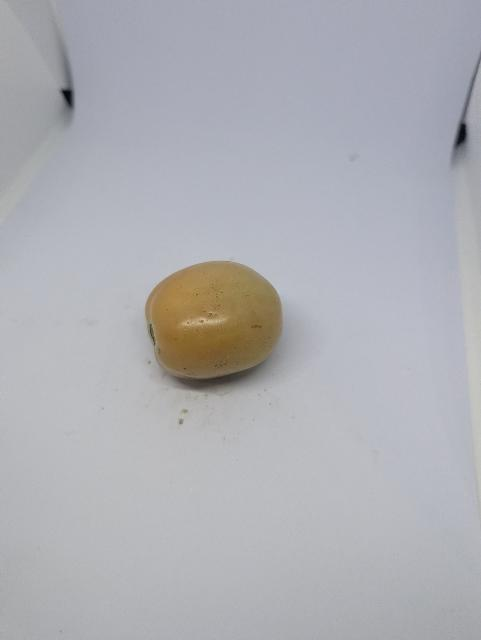breaker: (143, 252, 288, 392)
